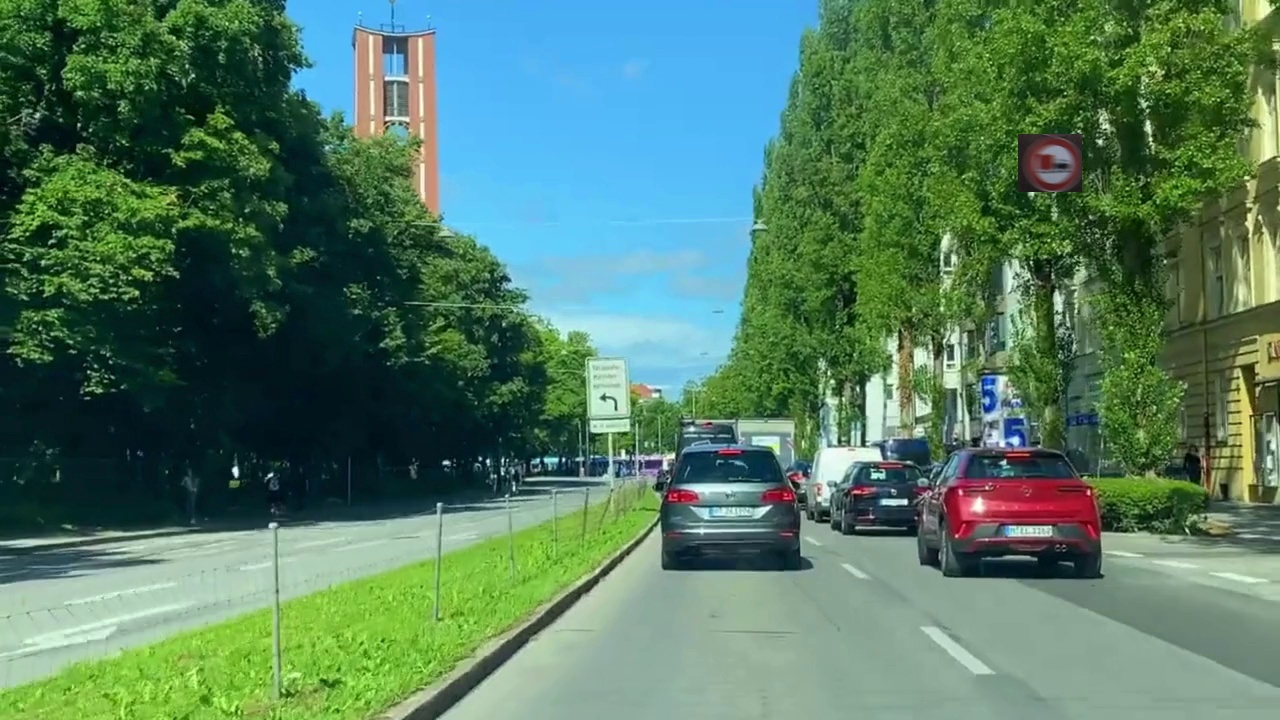No pass >3.5t: (1018, 134, 1082, 192)
